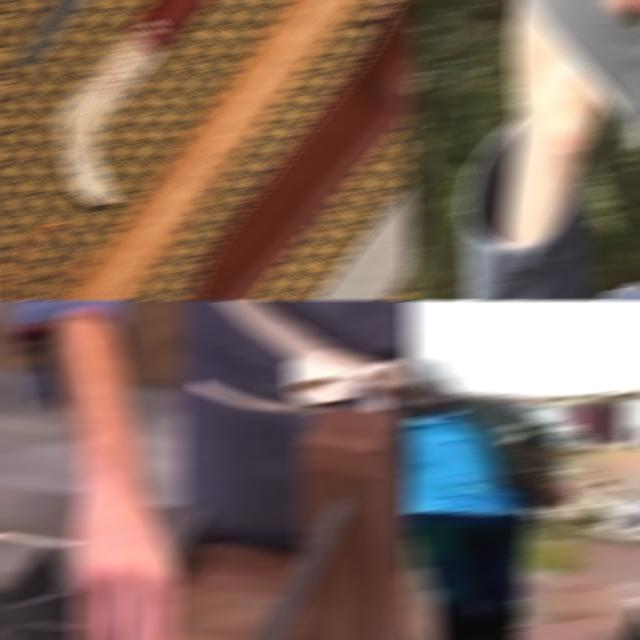Knife: (521, 0, 640, 147)
Knife_Handle: (50, 492, 341, 640)
